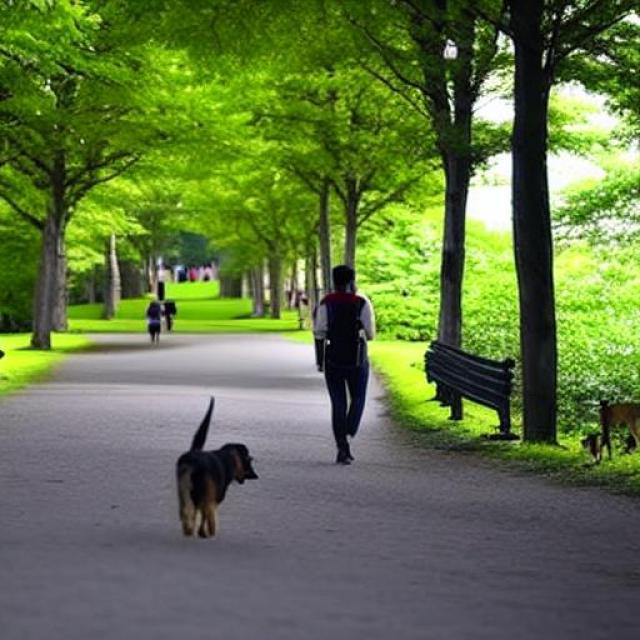Unleashed_Dog: (175, 350, 368, 540)
